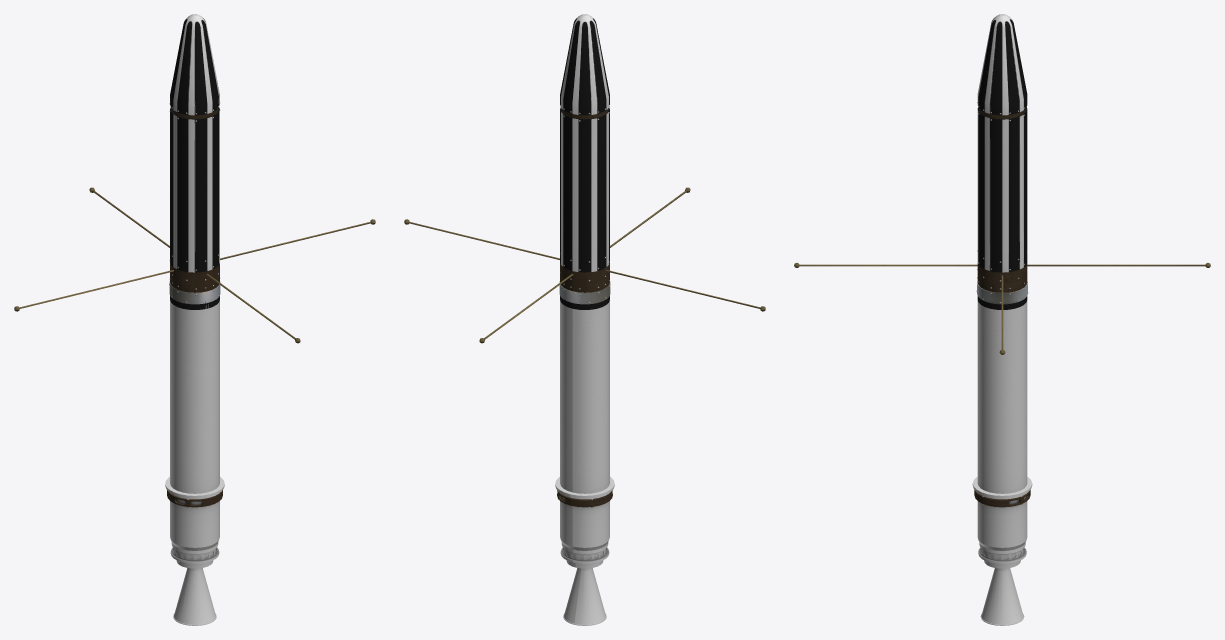
The model's file is explorer_1.glb.
3 views of the same model, side by side, from view 1: azimuth 30°, elevation 25°; view 2: azimuth 150°, elevation 25°; view 3: azimuth 270°, elevation 25° (orthographic).
Parts seen in each view (by area): view 1: Rocket, tex_01; view 2: Rocket, tex_01; view 3: Rocket, tex_01.
Boxes of the visible parts, x1=… form: Rocket: x1=165, y1=14, x2=224, y2=625; tex_01: x1=14, y1=187, x2=375, y2=507; Rocket: x1=555, y1=14, x2=614, y2=625; tex_01: x1=404, y1=187, x2=765, y2=507; Rocket: x1=972, y1=14, x2=1032, y2=625; tex_01: x1=794, y1=263, x2=1210, y2=507.
Bounding box in the file's own units: 1.28 × 2.03 × 1.28.
Materials: 2 (2 with a texture image).
